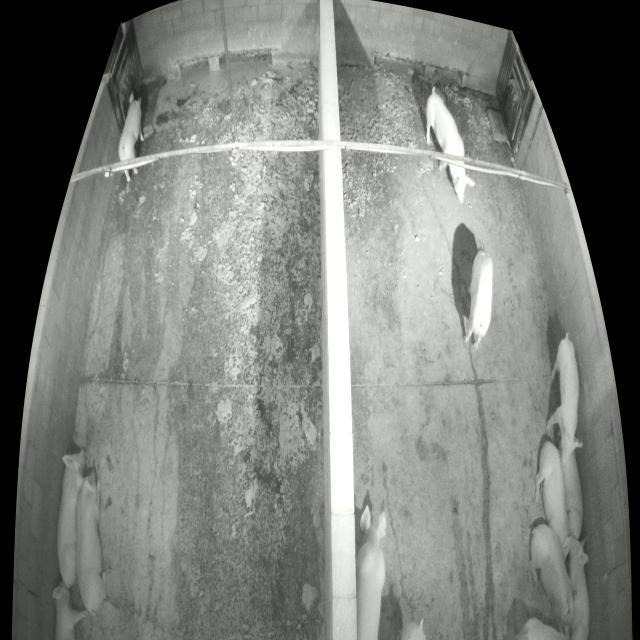pig: (426, 93, 475, 204), (529, 526, 576, 639), (546, 337, 583, 470), (75, 471, 106, 612), (356, 505, 387, 638), (56, 449, 85, 588), (535, 442, 568, 544), (462, 250, 493, 351), (562, 533, 591, 639), (118, 91, 145, 181), (51, 579, 87, 639), (564, 452, 585, 540), (516, 616, 558, 636), (401, 623, 426, 639)
